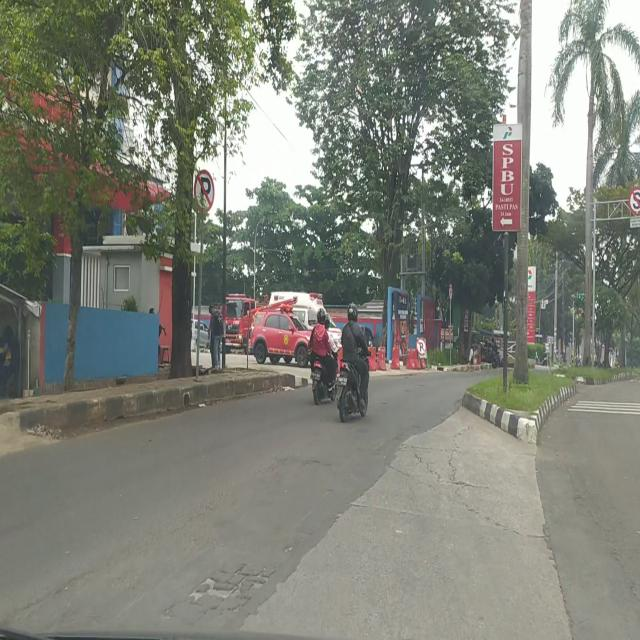Drain Hole: (164, 566, 276, 614)
